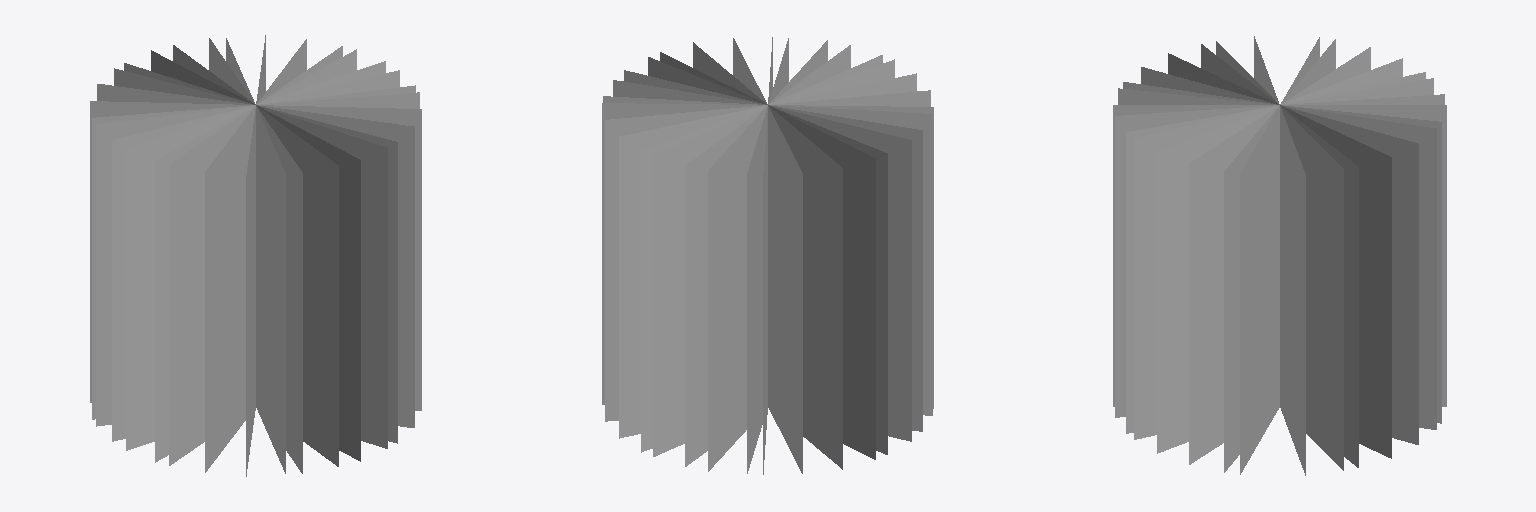
File: Cotton BallOBJ.obj
The picture shows the model from 3 angles: view 1: azimuth 30°, elevation 25°; view 2: azimuth 150°, elevation 25°; view 3: azimuth 270°, elevation 25°; orthographic projection.
Parts seen in each view (by area): view 1: Plane.001_tallBush_0; view 2: Plane.001_tallBush_0; view 3: Plane.001_tallBush_0.
Boxes of the visible parts, x1=… form: Plane.001_tallBush_0: x1=90, y1=35, x2=421, y2=476; Plane.001_tallBush_0: x1=602, y1=37, x2=933, y2=474; Plane.001_tallBush_0: x1=1113, y1=36, x2=1446, y2=475.
Size of the model in its own units: 1.16 by 1.16 by 1.16.